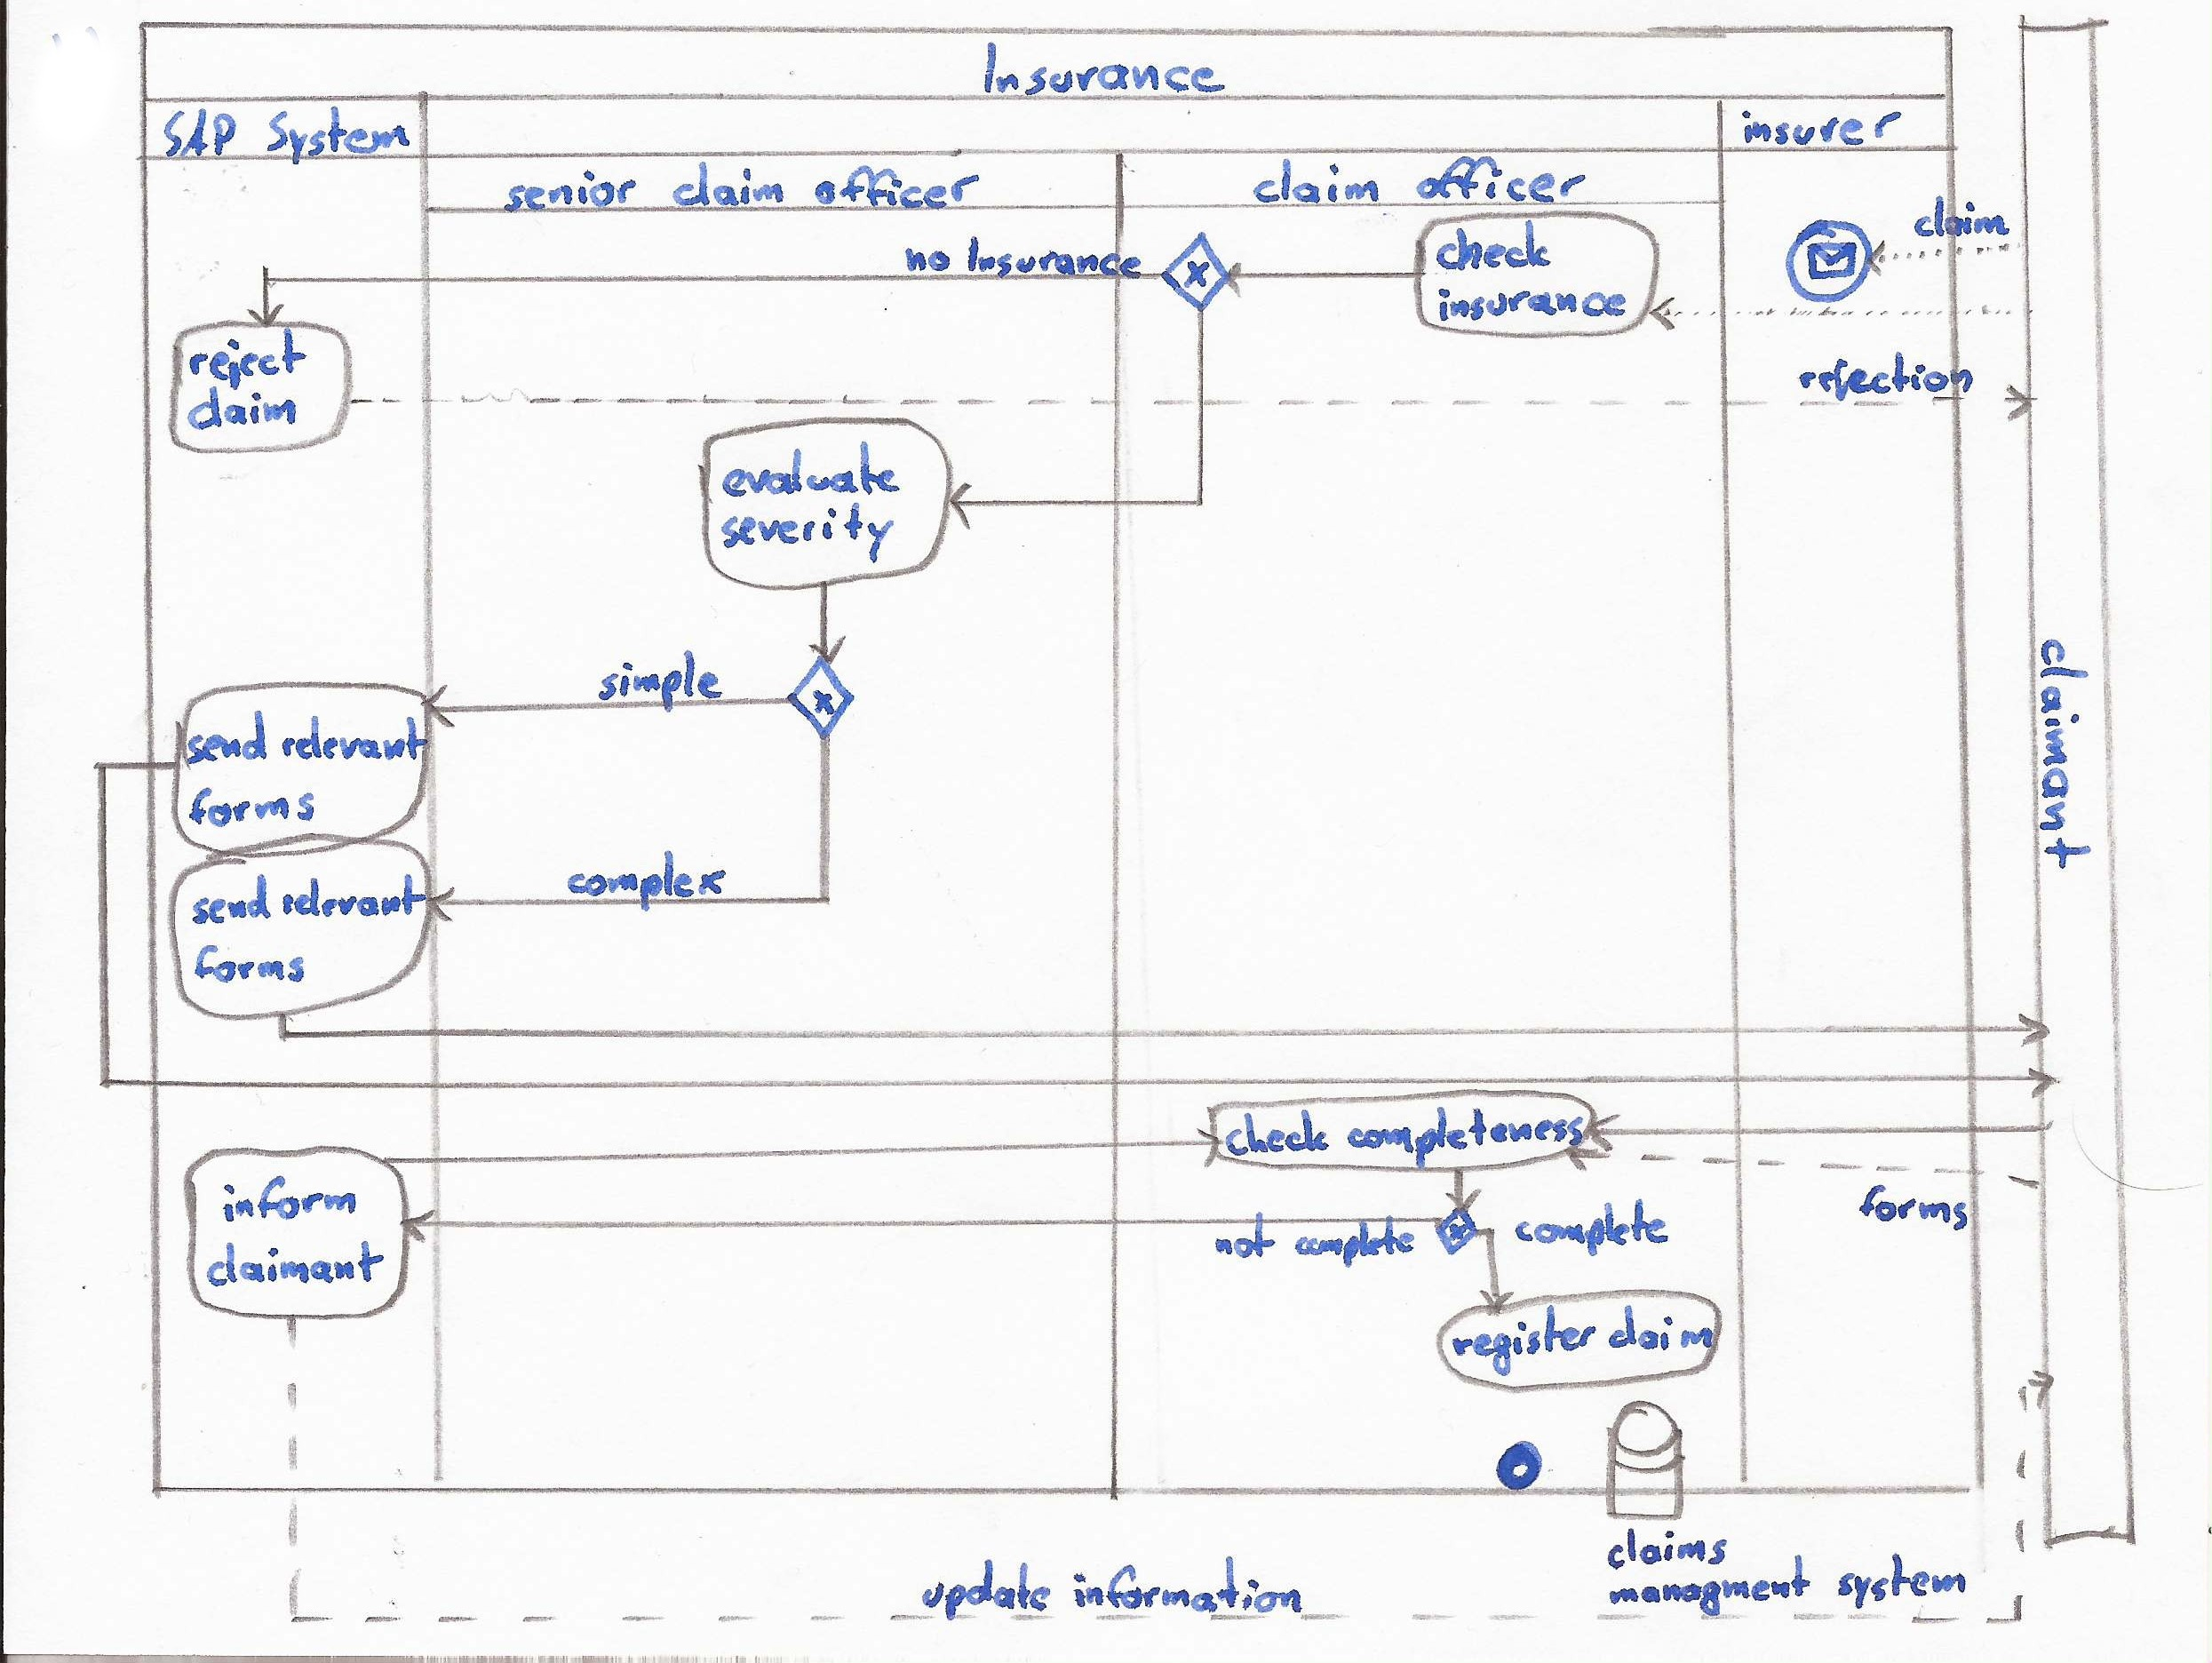Insurance: (975, 45, 1227, 96), (959, 239, 1148, 283)
SAP: (154, 108, 250, 166)
System: (260, 107, 412, 168)
check: (1434, 227, 1548, 276), (1223, 1114, 1333, 1155)
claim: (1256, 159, 1387, 206), (1611, 1308, 1716, 1357), (674, 166, 786, 211), (192, 391, 308, 435), (1915, 204, 2009, 243)
claimant: (2039, 641, 2091, 870), (206, 1242, 384, 1293)
claims: (1606, 1528, 1728, 1574)
complete: (1506, 1202, 1672, 1256), (1288, 1216, 1417, 1261)
completeness: (1338, 1102, 1588, 1151)
complex: (564, 859, 729, 905)
evaluate: (722, 456, 903, 505)
forms: (189, 786, 321, 833), (1854, 1183, 1969, 1226), (192, 943, 308, 987)
inform: (217, 1179, 363, 1228)
information: (1062, 1567, 1305, 1621)
insurance: (1434, 288, 1635, 327)
insurer: (1737, 108, 1908, 154)
managment: (1613, 1563, 1817, 1614)
no: (905, 241, 954, 279)
not: (1211, 1223, 1275, 1261)
officer: (1412, 159, 1586, 206), (816, 166, 982, 213)
register: (1447, 1310, 1604, 1361)
reject: (190, 335, 311, 391)
rejection: (1796, 358, 1974, 404)
relevant: (281, 872, 425, 921), (283, 721, 426, 763)
send: (189, 713, 269, 767), (196, 877, 271, 928)
senior: (505, 169, 639, 213)
severity: (718, 507, 900, 552)
simple: (592, 653, 720, 711)
system: (1836, 1556, 1967, 1609)
update: (919, 1567, 1052, 1621)
